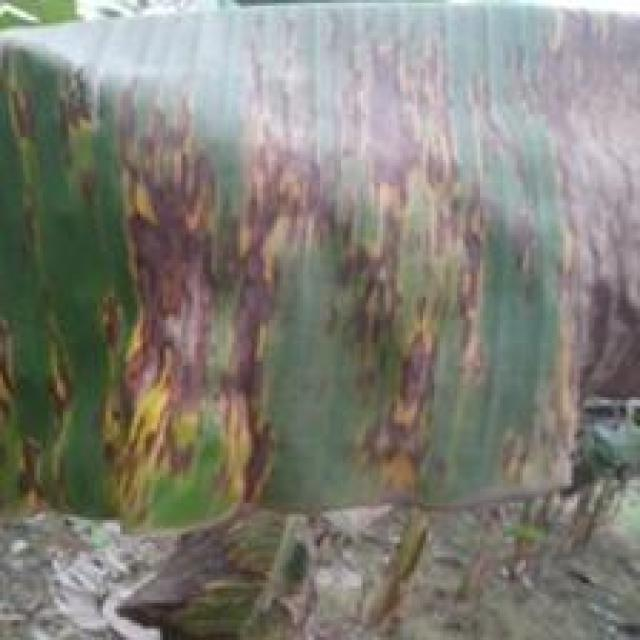Early_leaf_spot: (277, 0, 503, 500), (95, 32, 300, 520), (485, 0, 640, 483), (0, 42, 83, 505)
